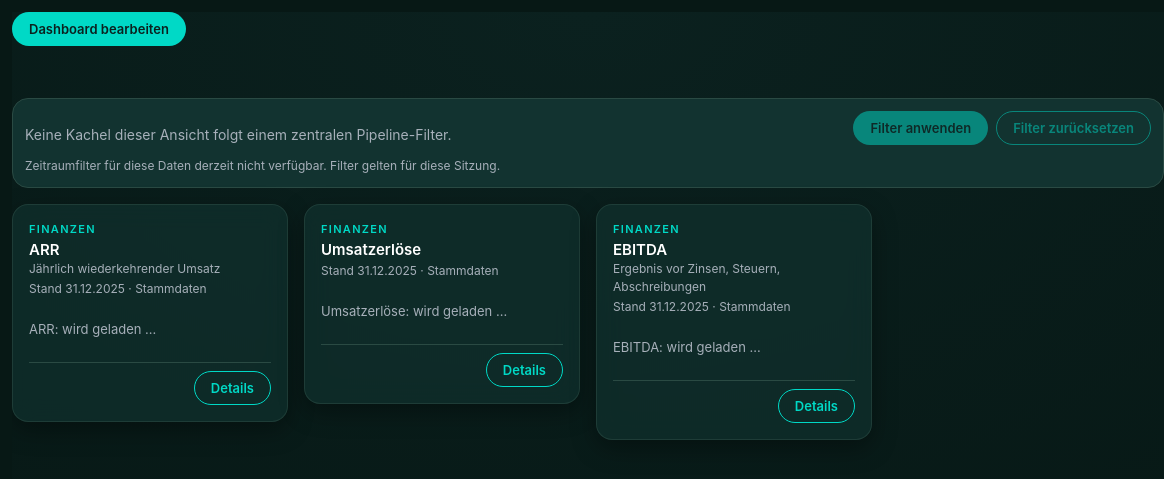
DashboardWorkspace – Zustände › nennt ohne Detailansicht einen sichtbaren Hinweis statt nichts zu tun
Click the button "Details" below "Jährlich wiederkehrender Umsatz".
click(232, 388)  # box x1=194 y1=371 x2=271 y2=405
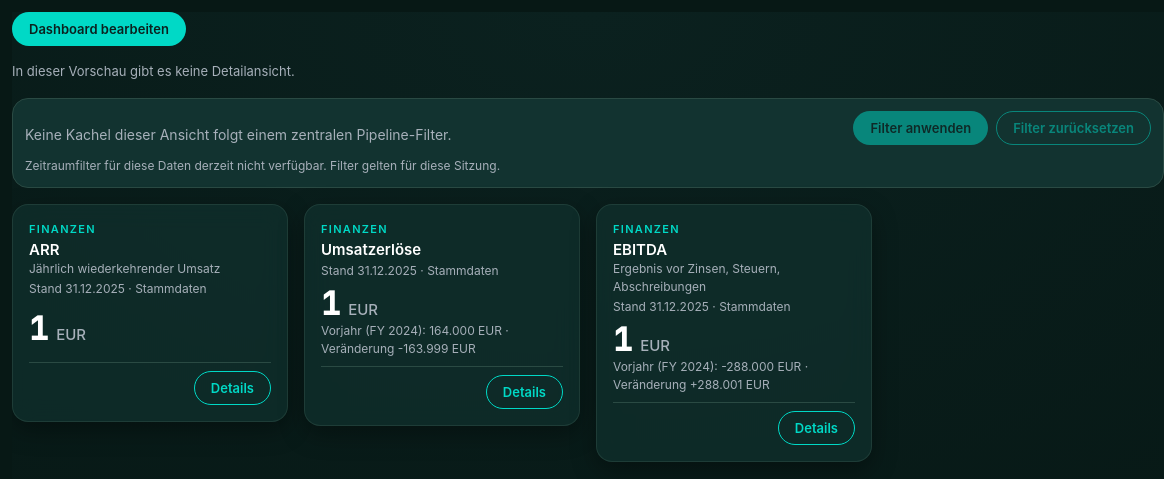
Expected: the text "In dieser Vorschau gibt es keine Detailansicht." is shown, x1=12 y1=63 x2=295 y2=79
